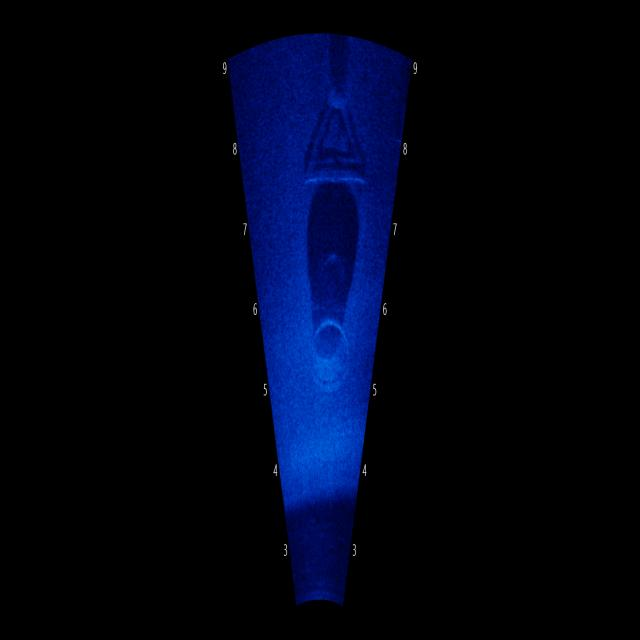circle: (298, 287, 358, 418)
triangle: (281, 58, 381, 192)
